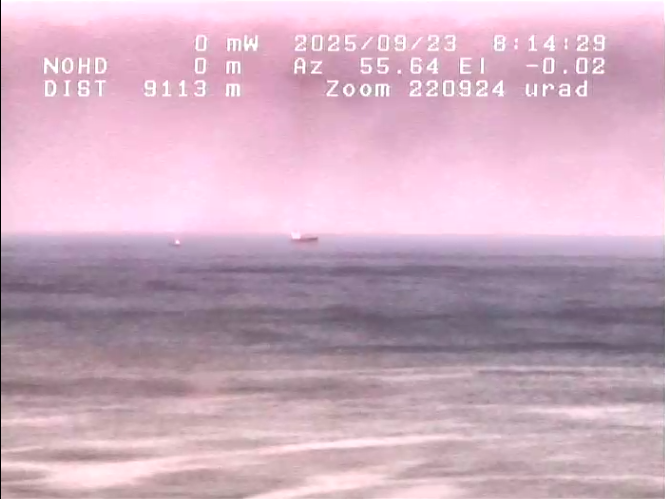TANKER: (276, 228, 327, 251), (162, 232, 186, 252)
